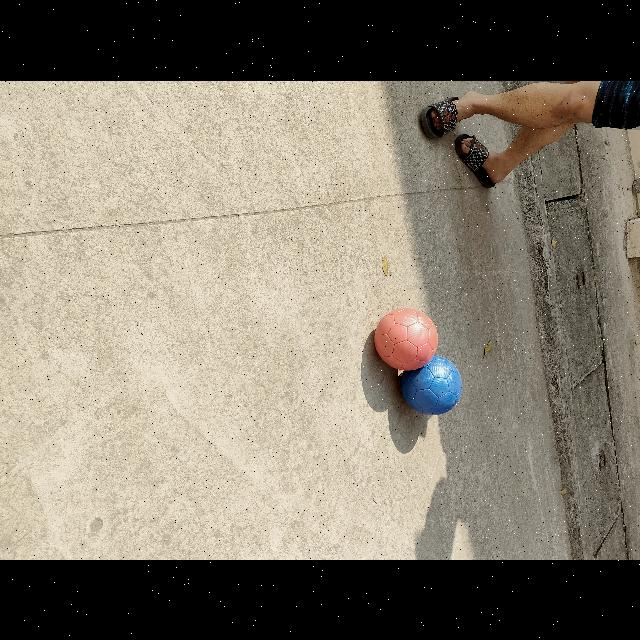B: (401, 355, 463, 415)
R: (374, 308, 438, 370)
